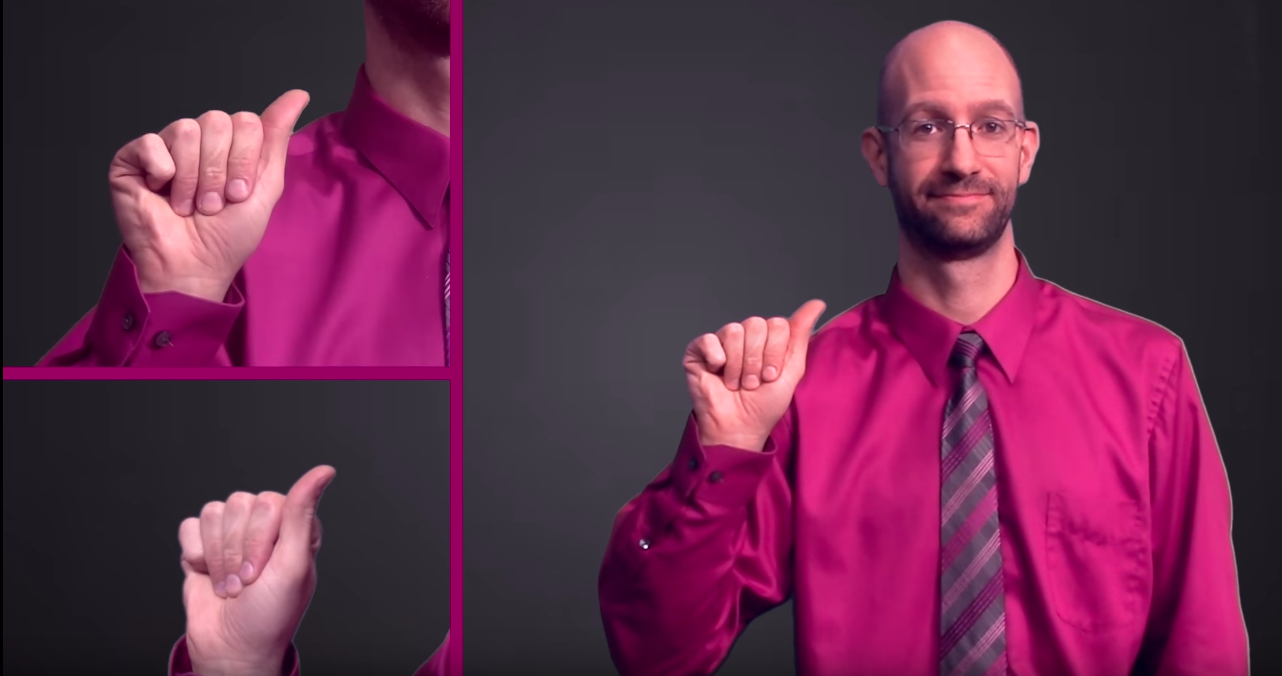a: (93, 79, 311, 305), (136, 454, 346, 670), (675, 292, 832, 457)
